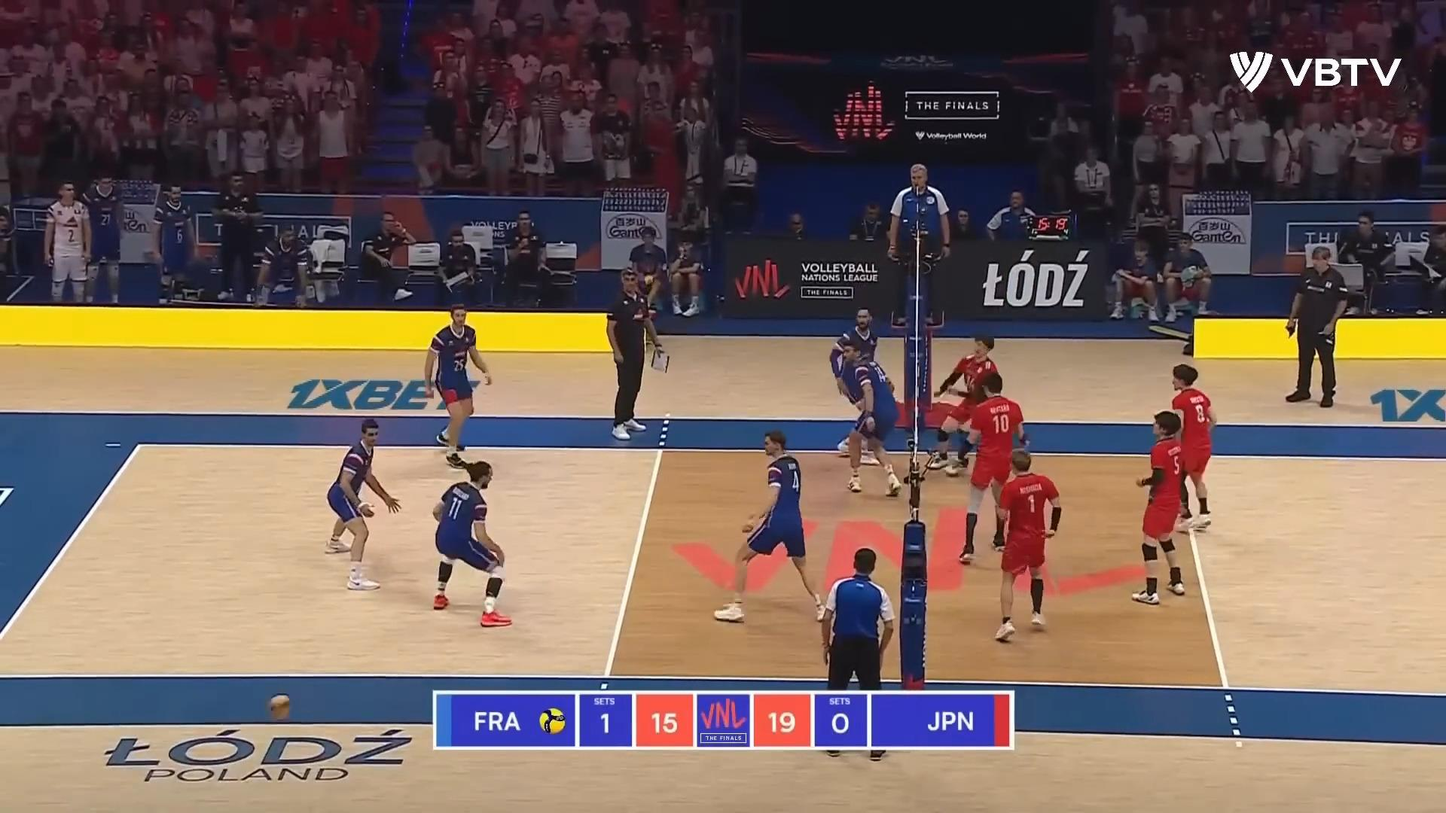ball: (269, 694, 291, 720)
